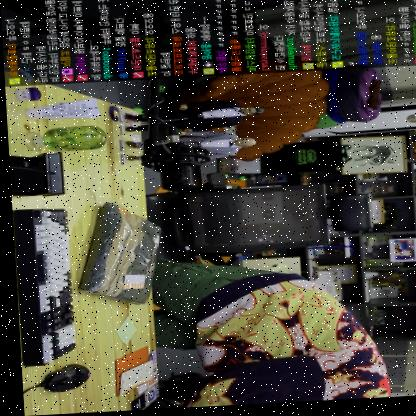streamer: (83, 248, 385, 413)
